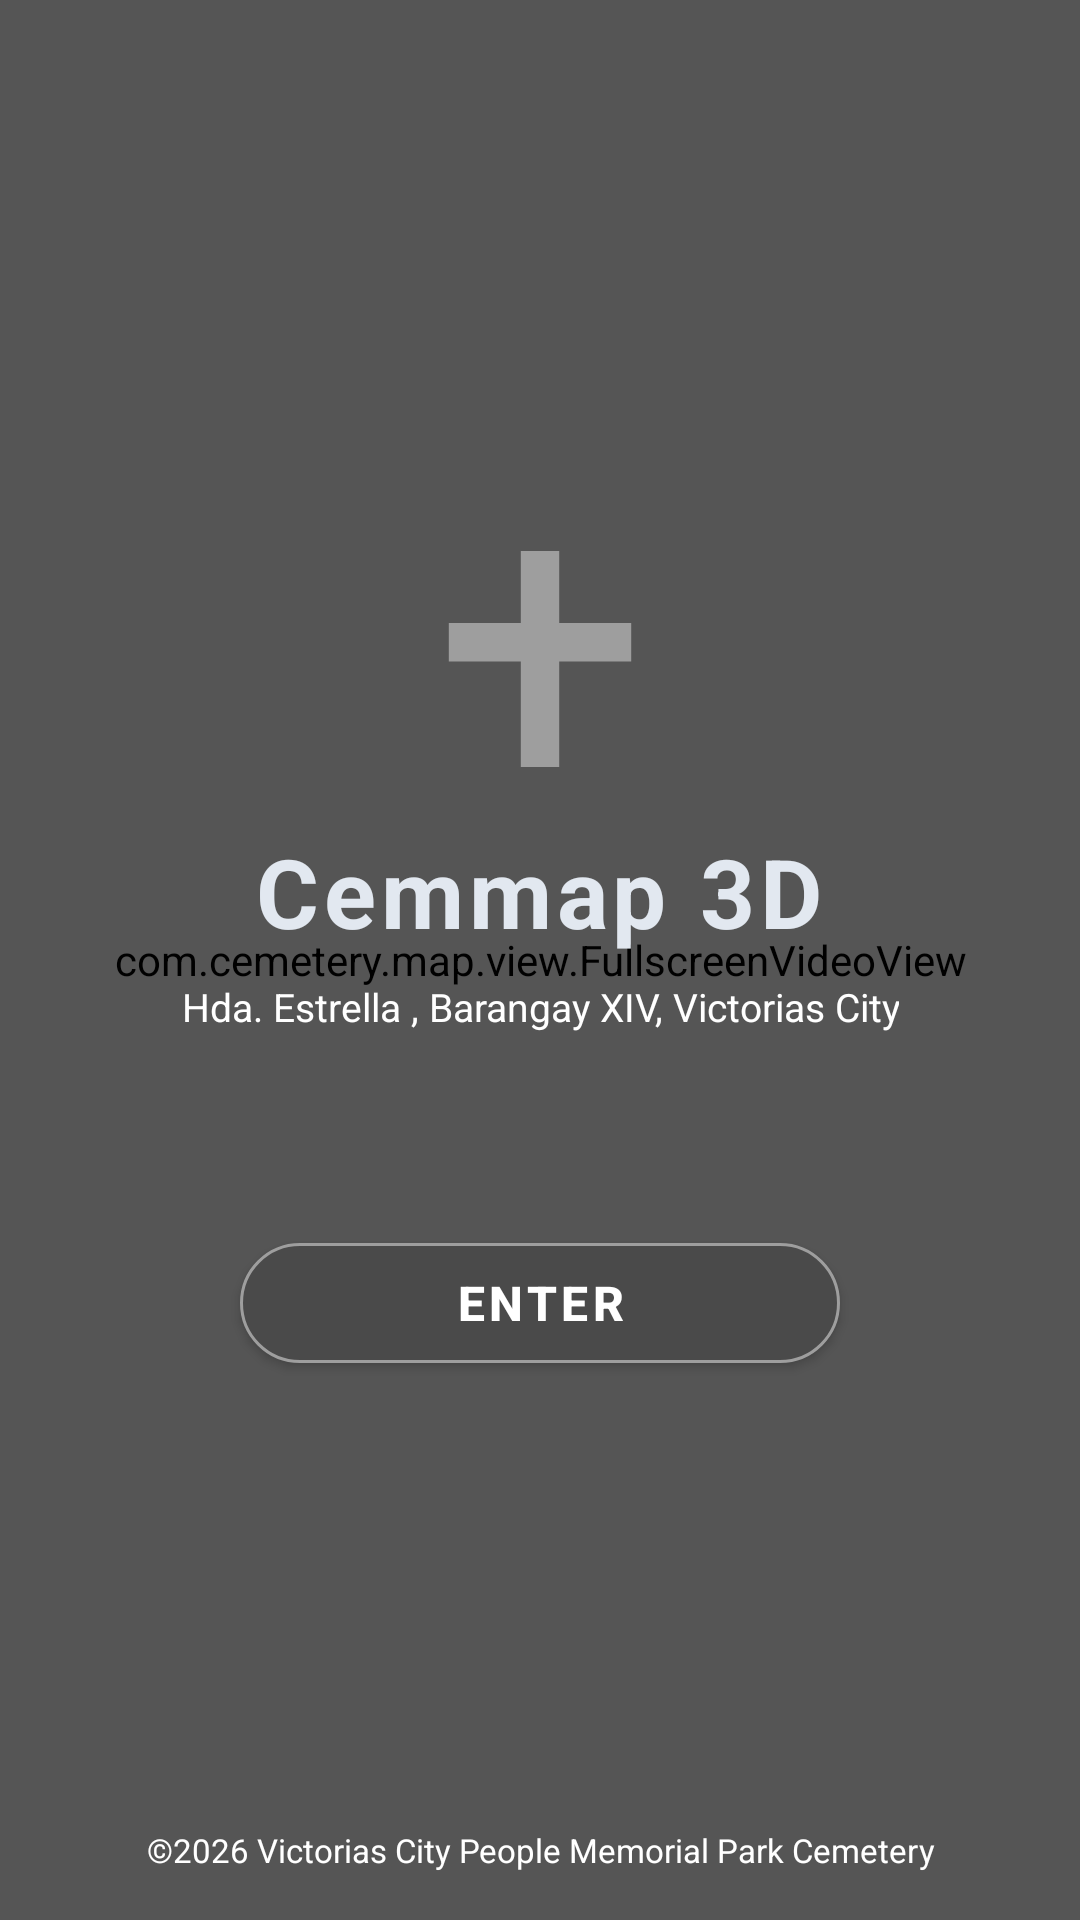

Where to tap for icons on this 1080x1920 app screen, as (x=x, y=y):
Cross: (x=540, y=659)
